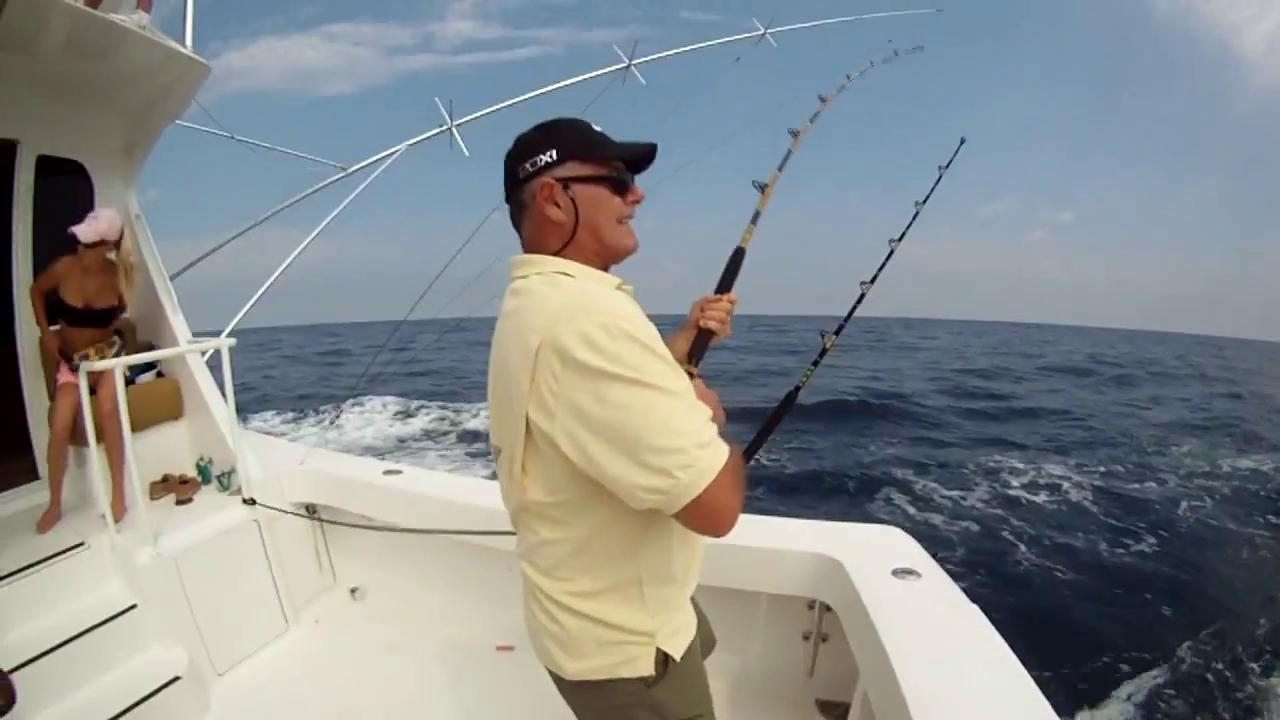victim: (482, 113, 754, 718), (62, 204, 136, 526)
